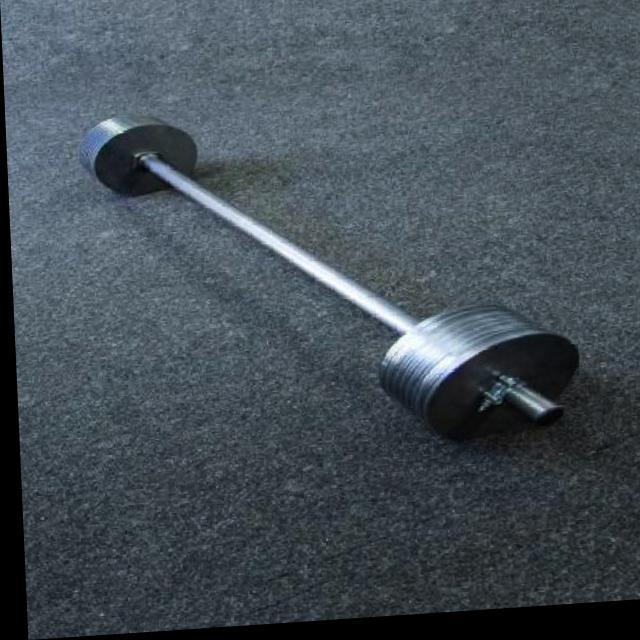barbell: (414, 332, 576, 453)
